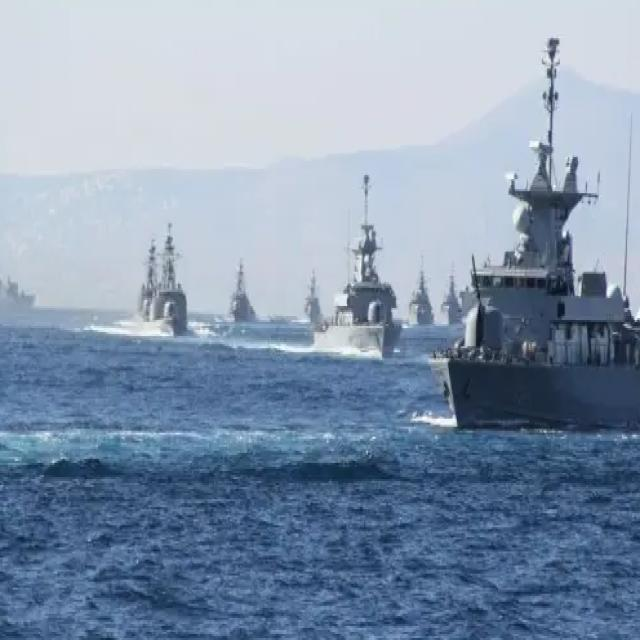navalvessels: (431, 36, 640, 441), (306, 163, 408, 359), (148, 226, 191, 328), (294, 265, 340, 342), (226, 240, 268, 324)
